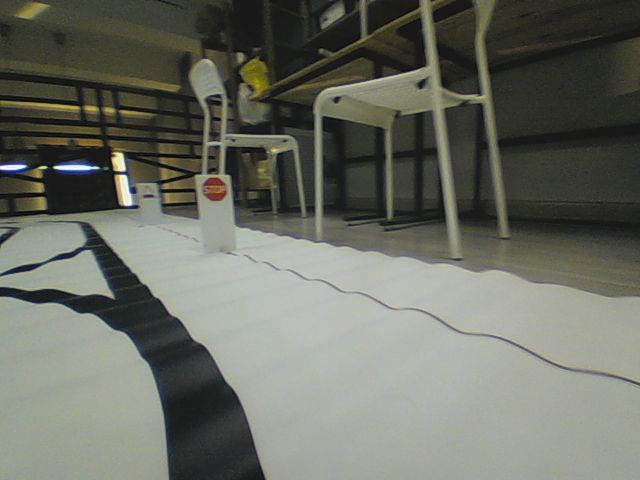Stop: (201, 176, 228, 202)
